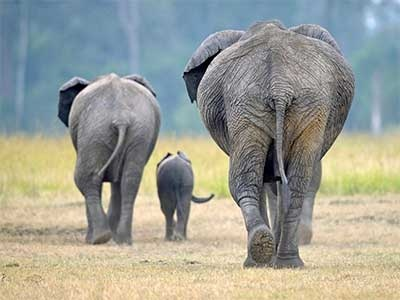elephant: (178, 17, 356, 270), (53, 72, 159, 248), (150, 147, 214, 245)
